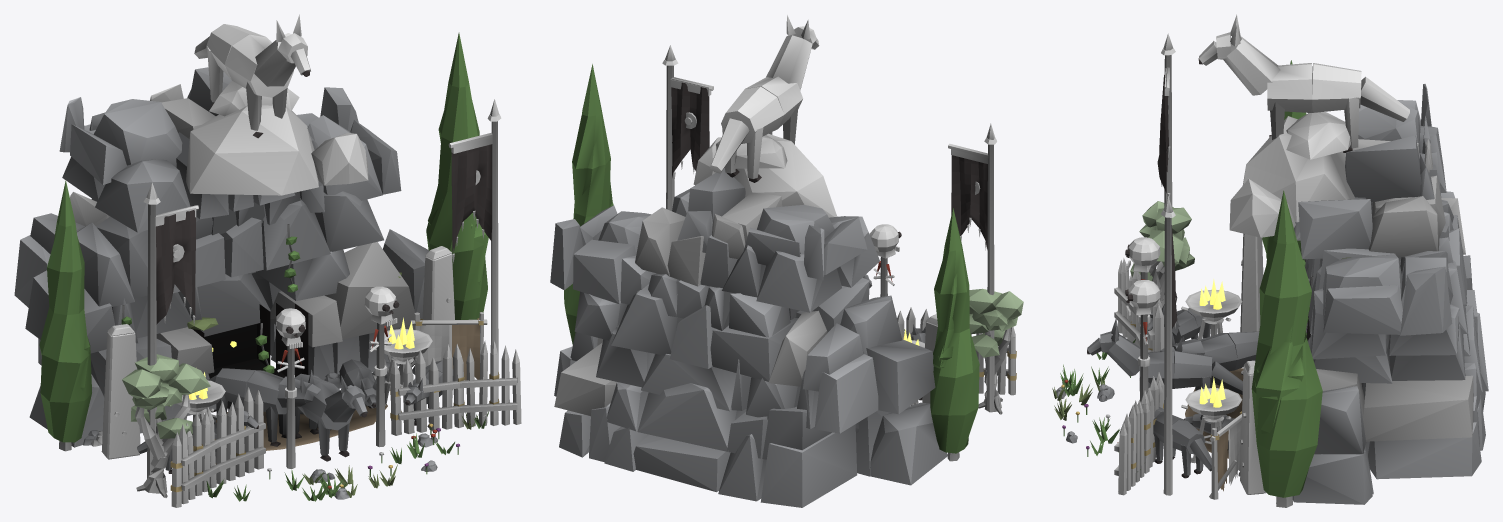
Rendered from wolf-den-l3.glb.
3 renders of one model, left to right at view 1: azimuth 30°, elevation 25°; view 2: azimuth 150°, elevation 25°; view 3: azimuth 270°, elevation 25°, orthographic. The views are drawn at different scales.
Visible parts, largest first — view 1: wolf-den-l3; view 2: wolf-den-l3; view 3: wolf-den-l3.
Part boxes in pixels (x1,y1,x2,y2): wolf-den-l3: [14, 14, 521, 507]; wolf-den-l3: [550, 15, 1023, 507]; wolf-den-l3: [1052, 14, 1488, 507].
Size of the model in its own units: 1.71 by 1.53 by 1.52.
